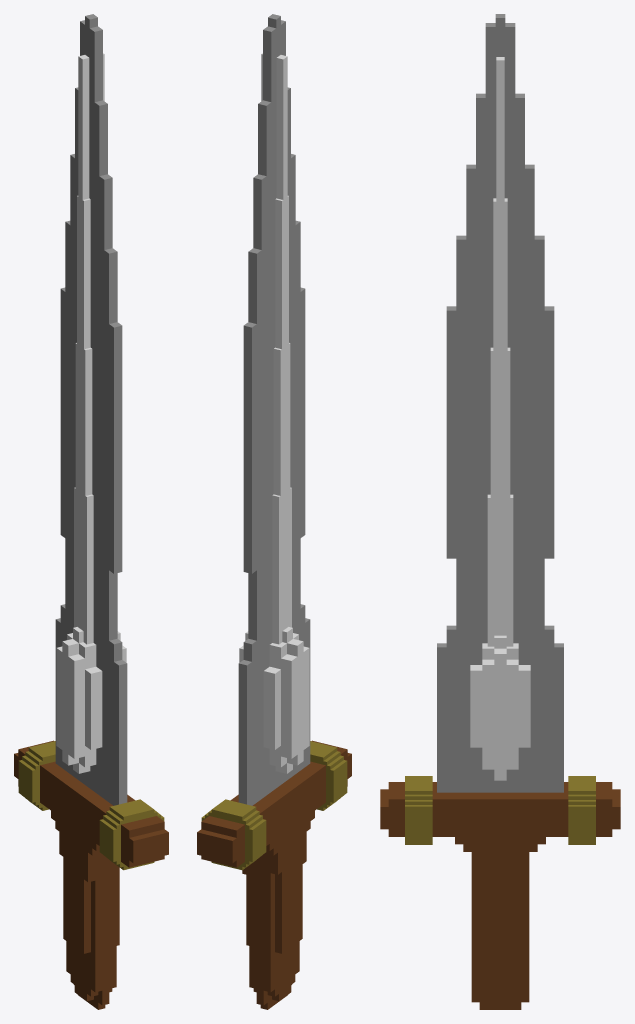
The model's file is magiczny_swiecacy_miecz_.fbx.
The picture shows the model from 3 angles, left to right: view 1: azimuth 30°, elevation 25°; view 2: azimuth 150°, elevation 25°; view 3: azimuth 270°, elevation 25°; orthographic projection.
Visible parts, largest first — view 1: Cube.002, Cube.001, Cube.004, Cube.003, Cube.005; view 2: Cube.002, Cube.001, Cube.004, Cube.003, Cube.005; view 3: Cube.002, Cube.001, Cube.004, Cube.003, Cube.005.
Part boxes in pixels (x1,y1,x2,y2): Cube.002: [55, 14, 127, 805]; Cube.001: [14, 740, 168, 1009]; Cube.004: [74, 53, 104, 644]; Cube.003: [56, 627, 126, 773]; Cube.005: [18, 741, 164, 870]; Cube.002: [238, 14, 310, 805]; Cube.001: [197, 740, 351, 1009]; Cube.004: [261, 53, 291, 644]; Cube.003: [239, 627, 309, 773]; Cube.005: [201, 741, 347, 870]; Cube.002: [437, 14, 563, 792]; Cube.001: [380, 782, 620, 1009]; Cube.004: [487, 57, 513, 646]; Cube.003: [470, 635, 530, 780]; Cube.005: [405, 776, 595, 844].
Size of the model in its own units: 43.91 by 794 by 174.
